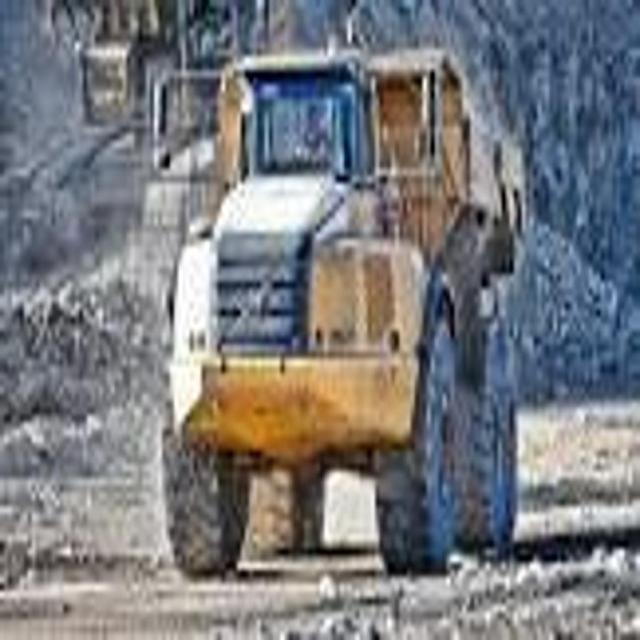dump_truck: (158, 28, 526, 582)
